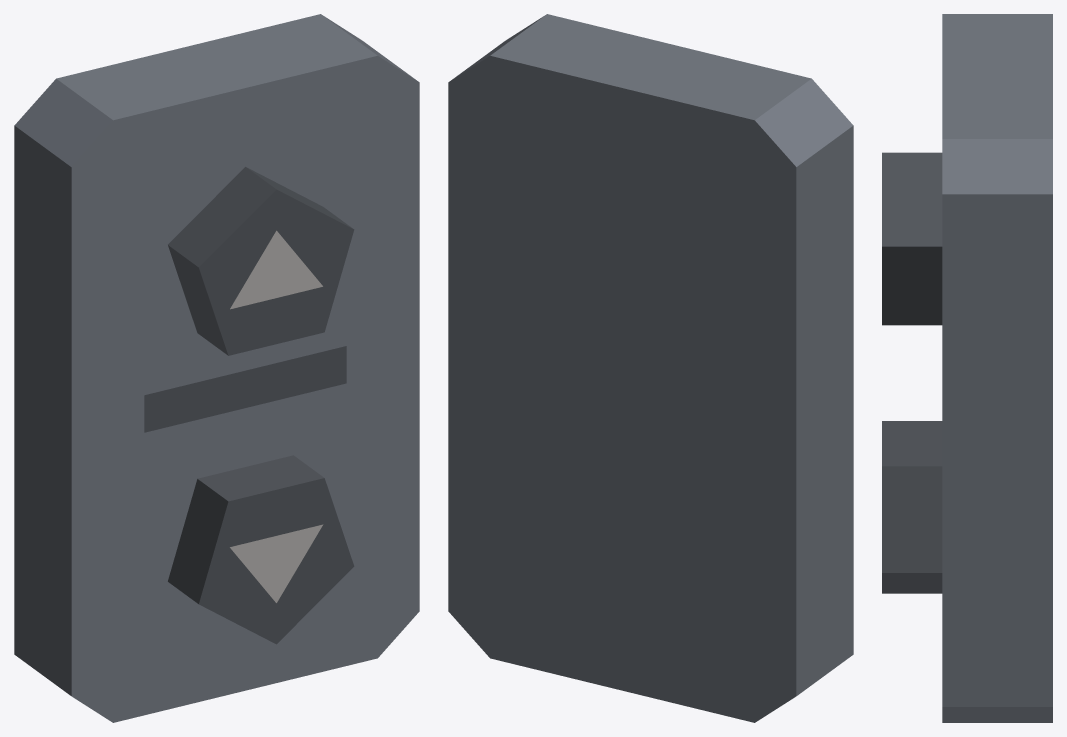
Rendered from SM_Prop_Elevator_Button_01.glb.
3 renders of one model, left to right at view 1: azimuth 30°, elevation 25°; view 2: azimuth 150°, elevation 25°; view 3: azimuth 270°, elevation 25°, orthographic. The views are drawn at different scales.
Parts seen in each view (by area): view 1: SM_Prop_Elevator_Button_01; view 2: SM_Prop_Elevator_Button_01; view 3: SM_Prop_Elevator_Button_01.
Boxes of the visible parts, x1,y1,x2,y2 form: SM_Prop_Elevator_Button_01: (14, 14, 419, 722); SM_Prop_Elevator_Button_01: (448, 14, 853, 722); SM_Prop_Elevator_Button_01: (882, 14, 1052, 722).
Size of the model in its own units: 0.173 by 0.2862 by 0.0758.
1 material, 1 textured.
